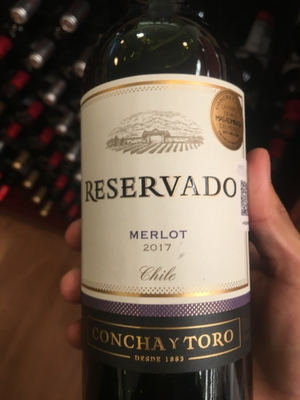reservado merlot: (77, 25, 265, 400)
